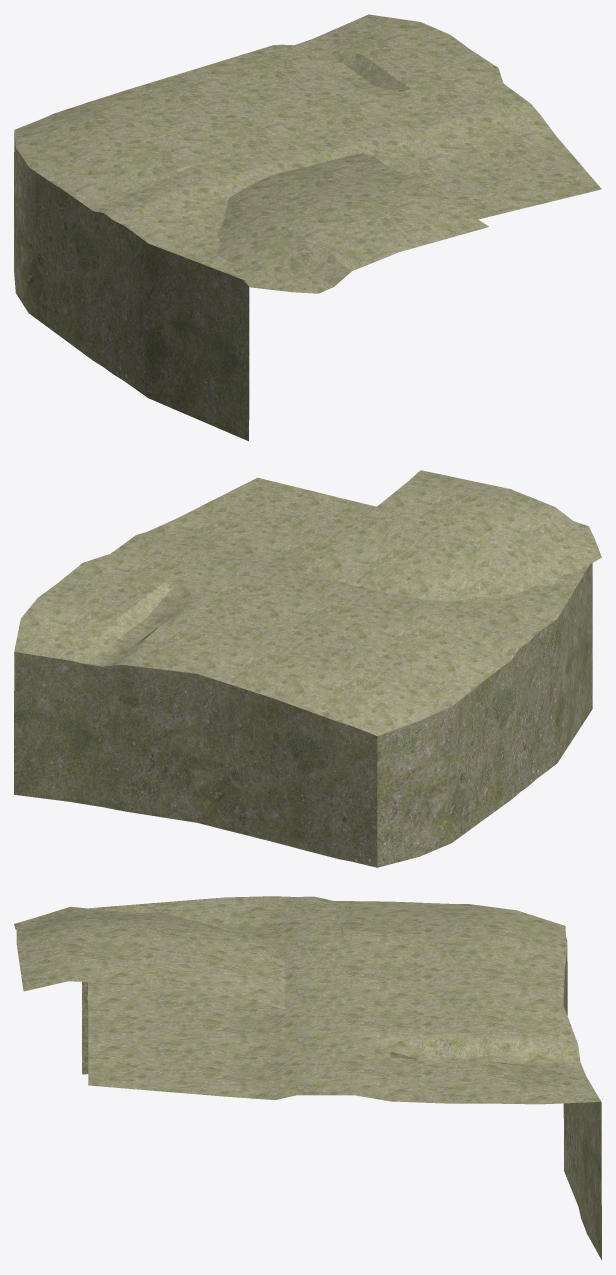
Rendered from SM_Chateaux_01_00.fbx.
The picture shows the model from 3 angles, top to bottom: view 1: azimuth 30°, elevation 25°; view 2: azimuth 150°, elevation 25°; view 3: azimuth 270°, elevation 25°; orthographic projection. The views are drawn at different scales.
Parts seen in each view (by area): view 1: SM_Chateaux_01_00, SM_Chateaux_01_00.001; view 2: SM_Chateaux_01_00, SM_Chateaux_01_00.001; view 3: SM_Chateaux_01_00, SM_Chateaux_01_00.001.
Part boxes in pixels (box(x1,y1,x2,y2)): SM_Chateaux_01_00: box(14, 14, 601, 293); SM_Chateaux_01_00.001: box(14, 133, 249, 441); SM_Chateaux_01_00: box(14, 470, 601, 735); SM_Chateaux_01_00.001: box(14, 562, 592, 867); SM_Chateaux_01_00: box(14, 896, 601, 1104); SM_Chateaux_01_00.001: box(82, 945, 601, 1259).
Bounding box in the file's own units: 12251 × 5128 × 13882.
